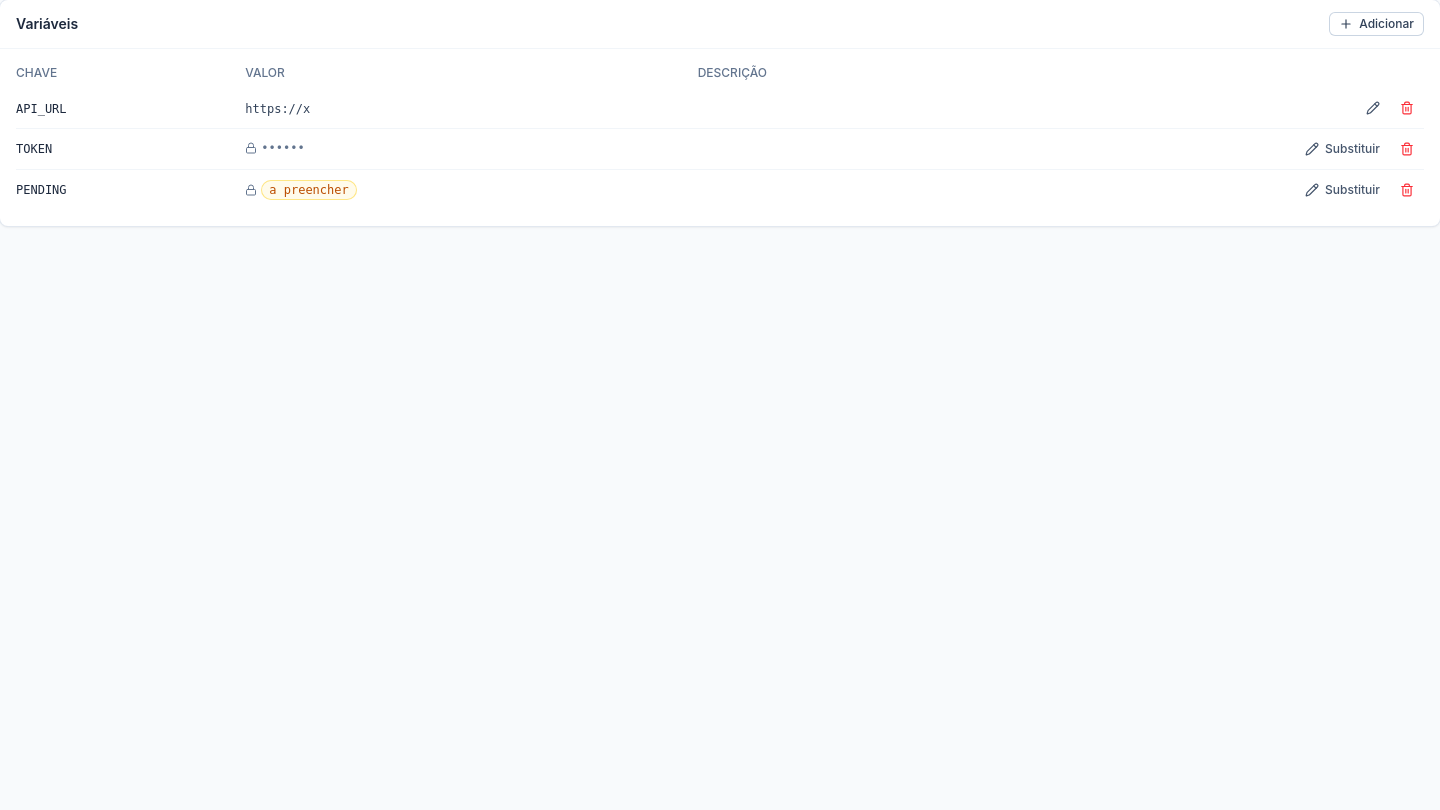
it: VariablesEditor › replacing a secret with an empty value keeps the current one (value omitted)
This screenshot has width=1440, height=810.
Click the button with aria-label "Substituir TOKEN".
click(1343, 149)  # box [1295, 137, 1390, 161]
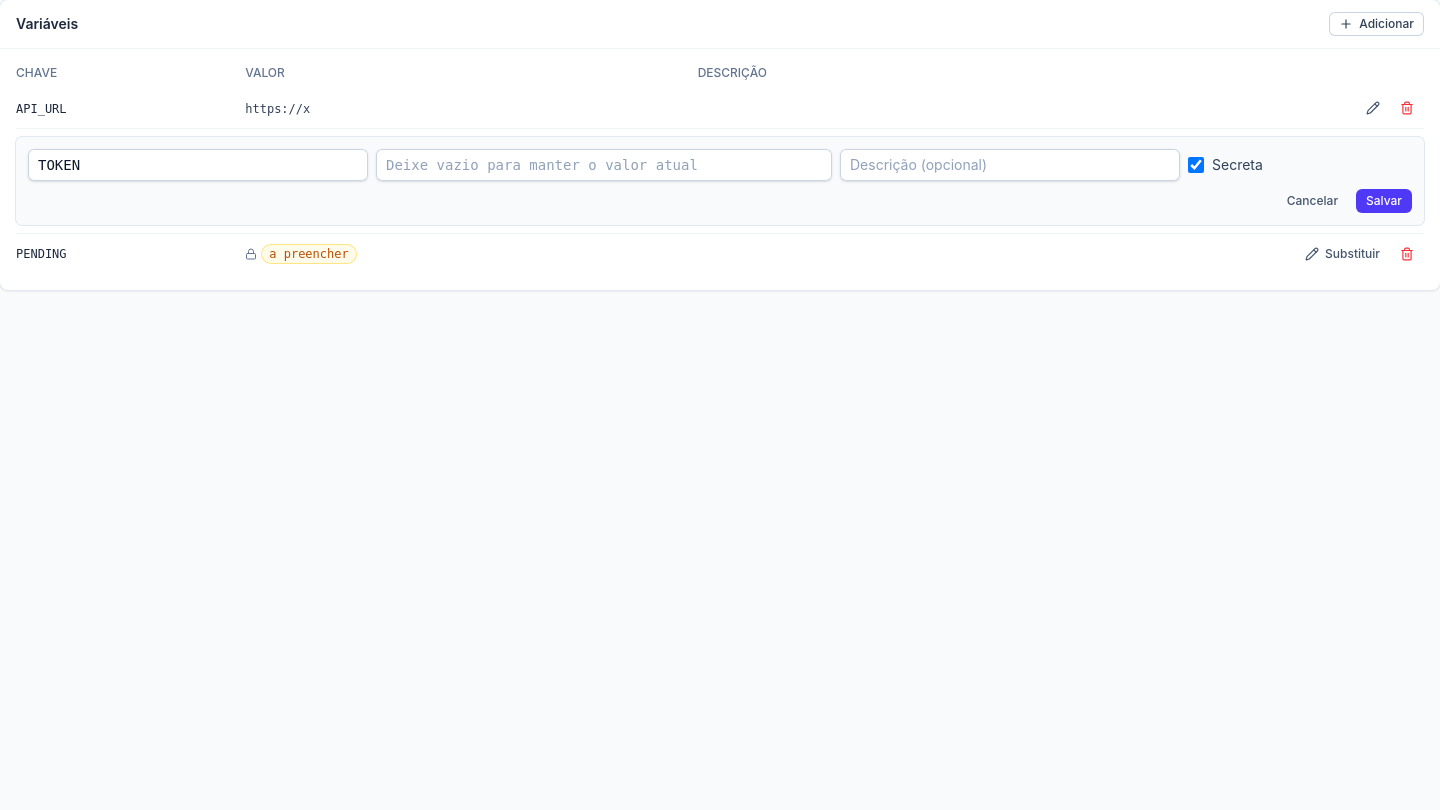
Now the password field labelled "valor" is empty, box [376, 149, 832, 181]
Type "token da API" into the field labelled "Descrição".
click(1010, 165); type("token da API")  # box [840, 149, 1180, 181]
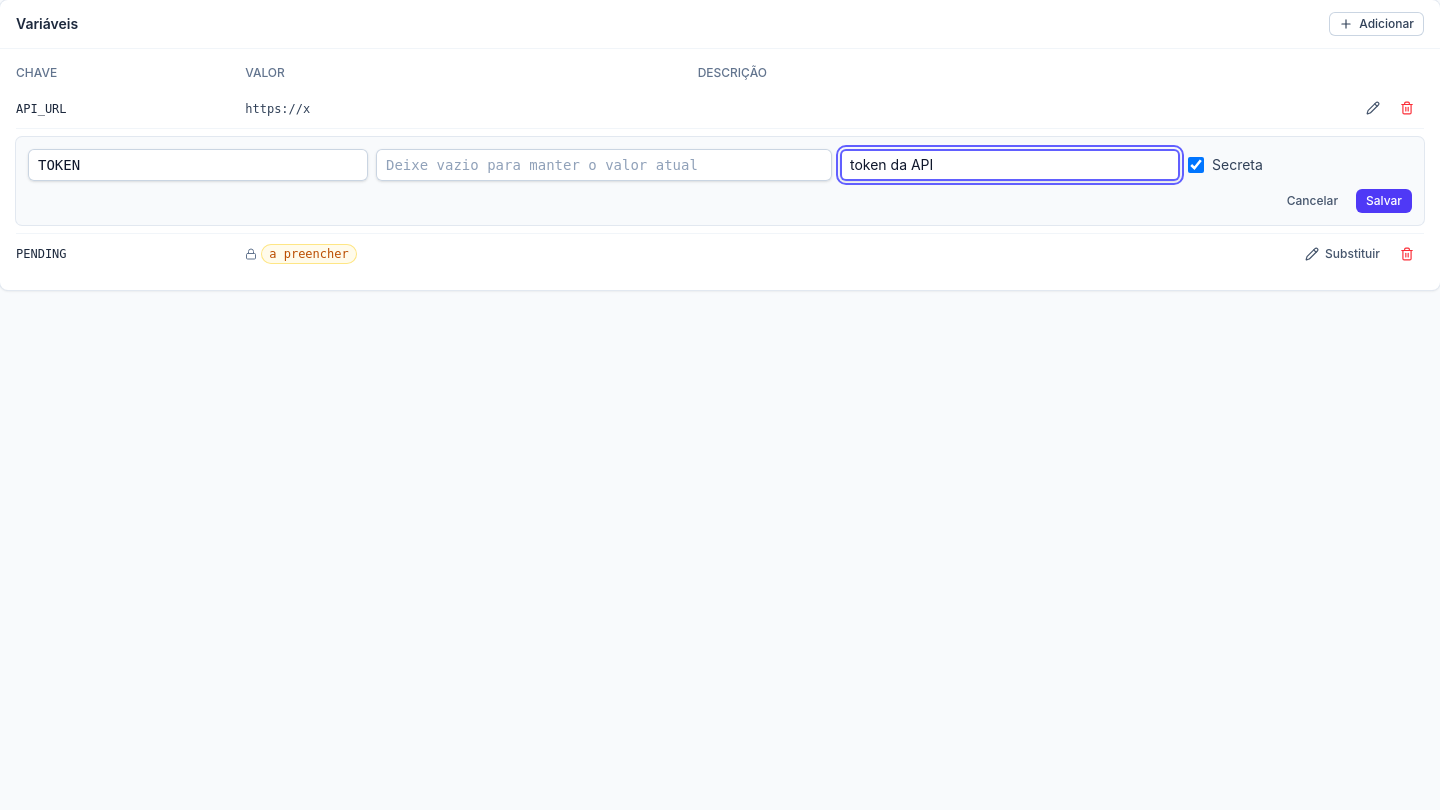
Click the button "Salvar".
click(1384, 201)  # box [1356, 189, 1412, 213]
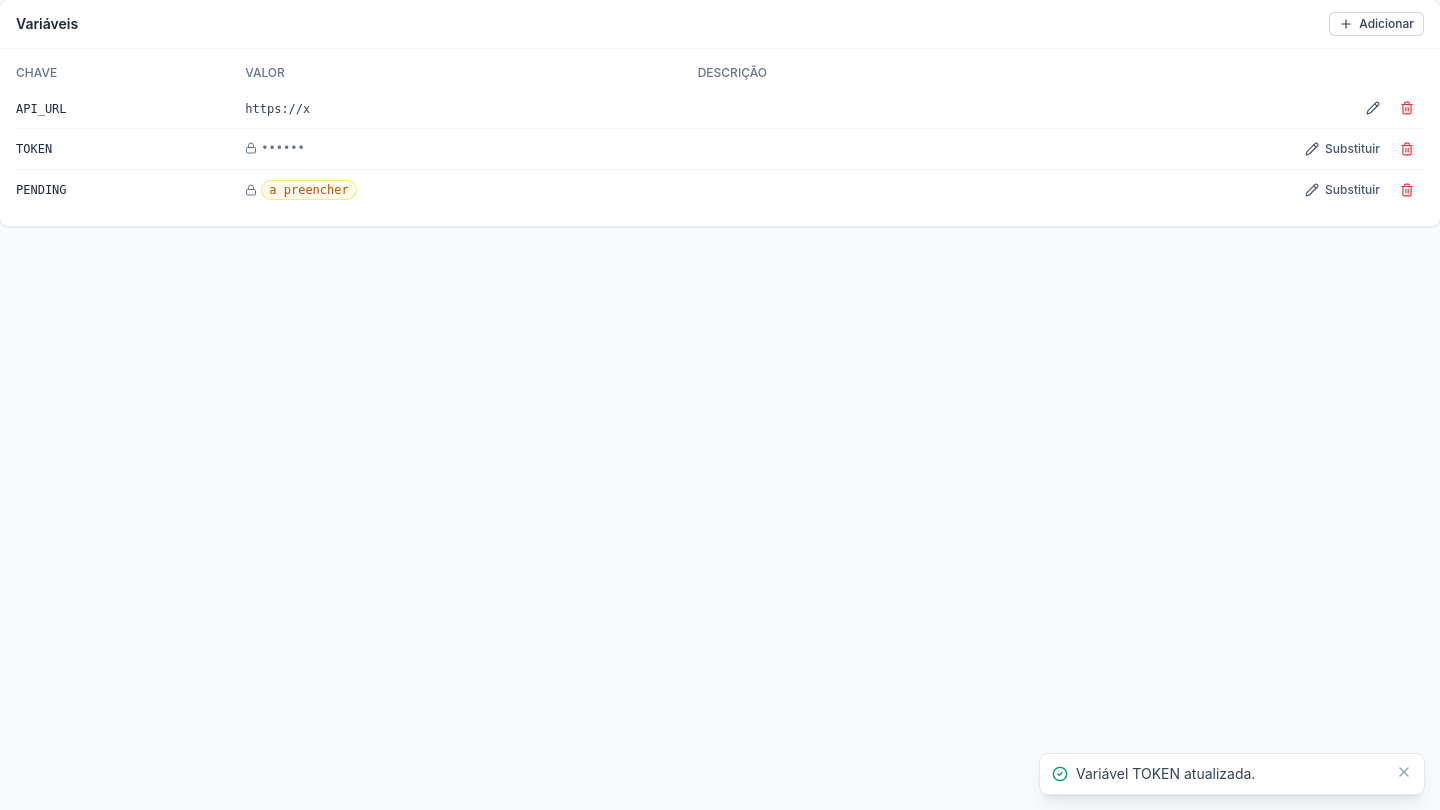
Now the text "Variável TOKEN atualizada." is shown, box [1076, 765, 1255, 782]
